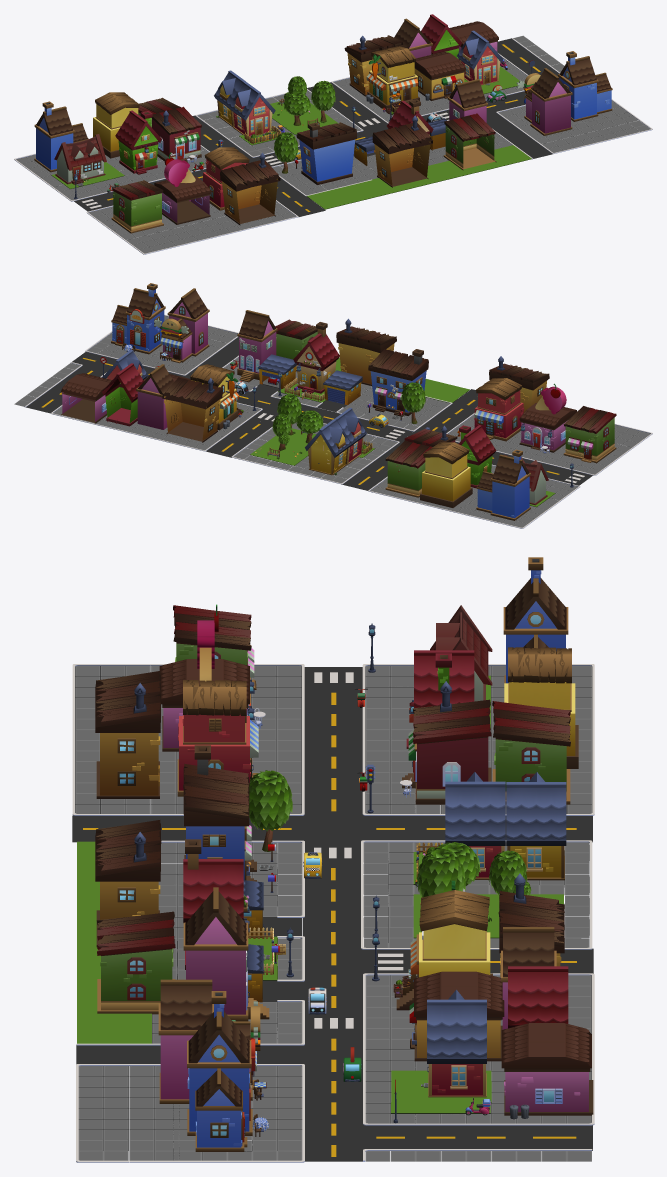
File: Veseli grad.fbx
3 renders of one model, top to bottom at view 1: azimuth 30°, elevation 25°; view 2: azimuth 150°, elevation 25°; view 3: azimuth 270°, elevation 25°, orthographic. The views are drawn at different scales.
Parts seen in each view (by area): view 1: Scena, Pod, Poslasticarnica, Brza_hrana, Pekara, Kuca_sa_srcem, Basta; view 2: Scena, Pod, Pekara, Brza_hrana, Poslasticarnica, Kuca_sa_srcem; view 3: Pod, Scena, Pekara, Brza_hrana, Poslasticarnica, Kuca_sa_srcem.
Boxes of the visible parts, bbox=[...] form: Scena: bbox=[34, 14, 539, 233]; Pod: bbox=[14, 35, 652, 254]; Poslasticarnica: bbox=[154, 152, 211, 224]; Brza_hrana: bbox=[516, 68, 572, 135]; Pekara: bbox=[558, 51, 612, 121]; Kuca_sa_srcem: bbox=[387, 99, 433, 135]; Basta: bbox=[239, 126, 281, 145]; Scena: bbox=[61, 310, 616, 520]; Pod: bbox=[14, 314, 652, 528]; Pekara: bbox=[111, 283, 165, 354]; Brza_hrana: bbox=[154, 288, 209, 363]; Poslasticarnica: bbox=[519, 383, 576, 453]; Kuca_sa_srcem: bbox=[293, 322, 339, 393]; Pod: bbox=[72, 664, 594, 1162]; Scena: bbox=[95, 557, 593, 1123]; Pekara: bbox=[187, 991, 268, 1151]; Brza_hrana: bbox=[158, 979, 266, 1103]; Poslasticarnica: bbox=[159, 604, 265, 751]; Kuca_sa_srcem: bbox=[183, 839, 249, 969].
Bounding box in the file's own units: 45.54 × 5.28 × 20.19.
24 materials, 24 textured.
